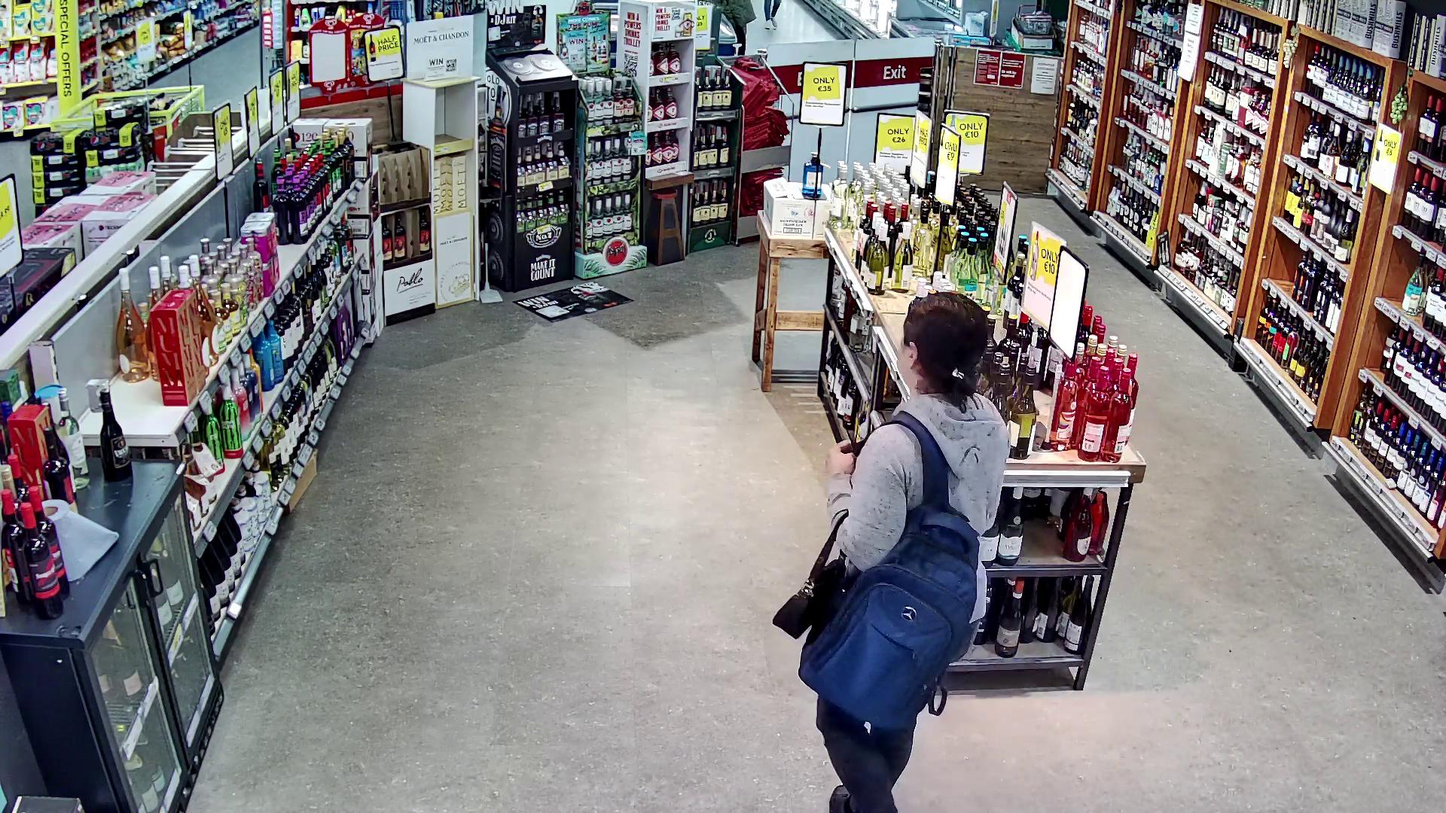backpack-or-handbag: (800, 497, 978, 729), (772, 510, 852, 637)
person: (773, 290, 1005, 813)
person-with-backpack-handbag: (816, 290, 1009, 813)
